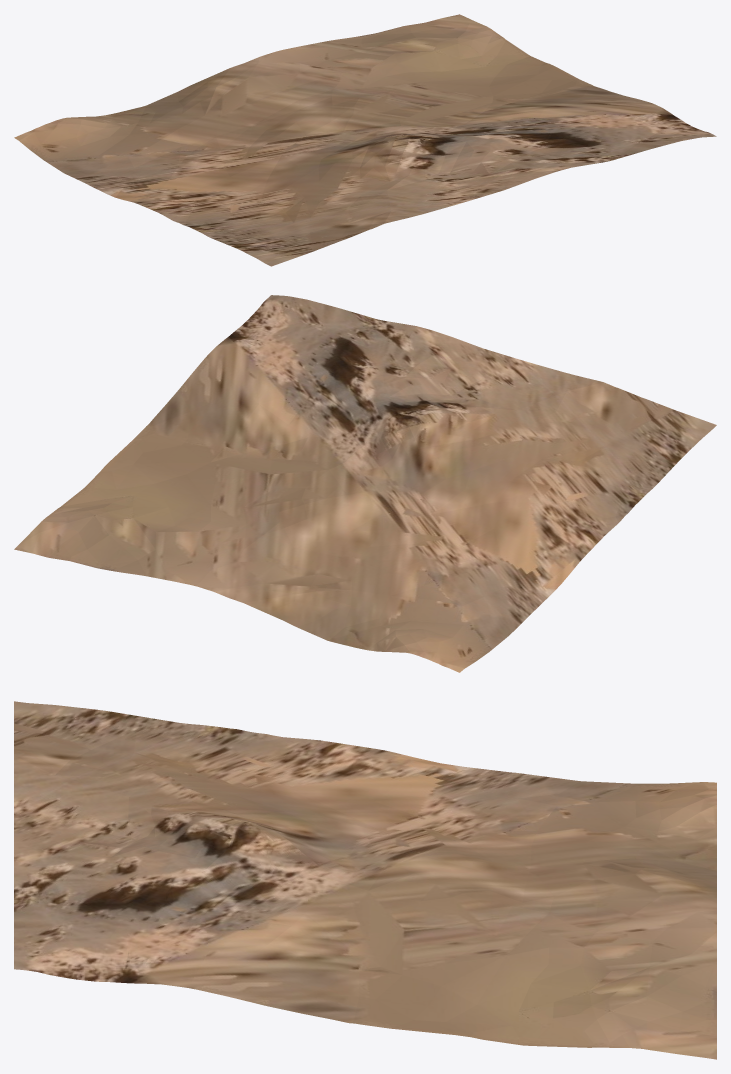
3 views of the same model, one above another, from view 1: azimuth 30°, elevation 25°; view 2: azimuth 150°, elevation 25°; view 3: azimuth 270°, elevation 25° (orthographic). The views are drawn at different scales.
Size of the model in its own units: 2.09 by 0.3853 by 2.09.
Materials: 2 (2 with a texture image).
